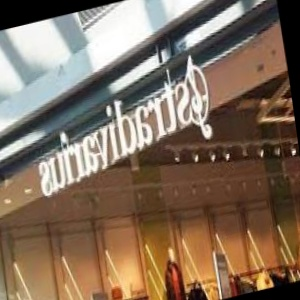stradivarius: (48, 95, 300, 209)
